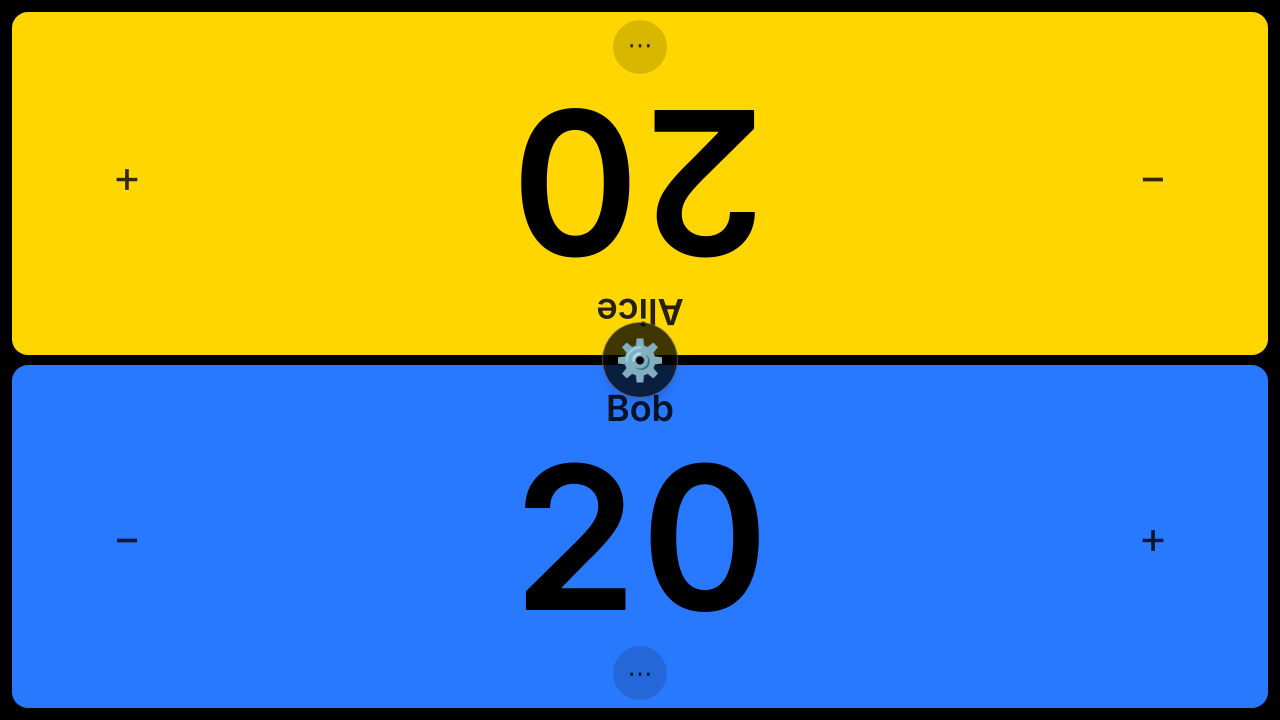
Test: LifeCounter › flips a coin from the game menu
Click the button named "Opzioni di gioco" at (640,360), box [602,322,678,398]
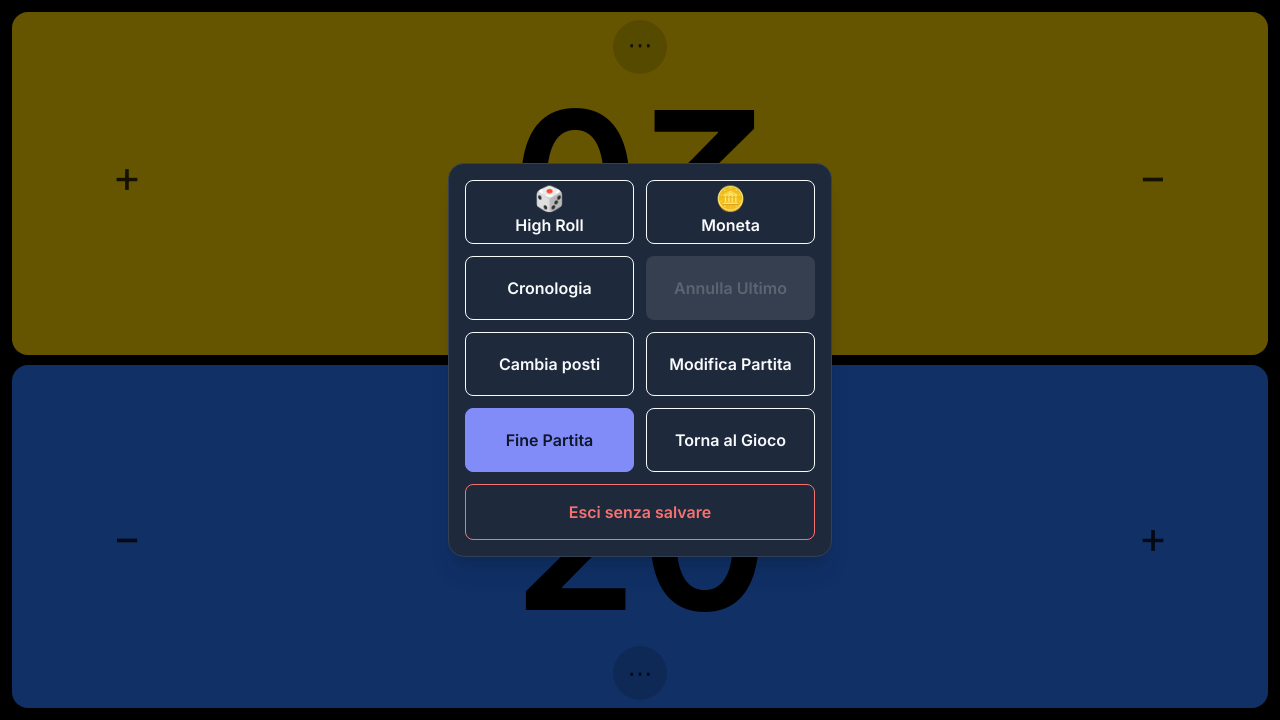
Click the button "🪙 Moneta" at (730,212), box [646,180,815,244]
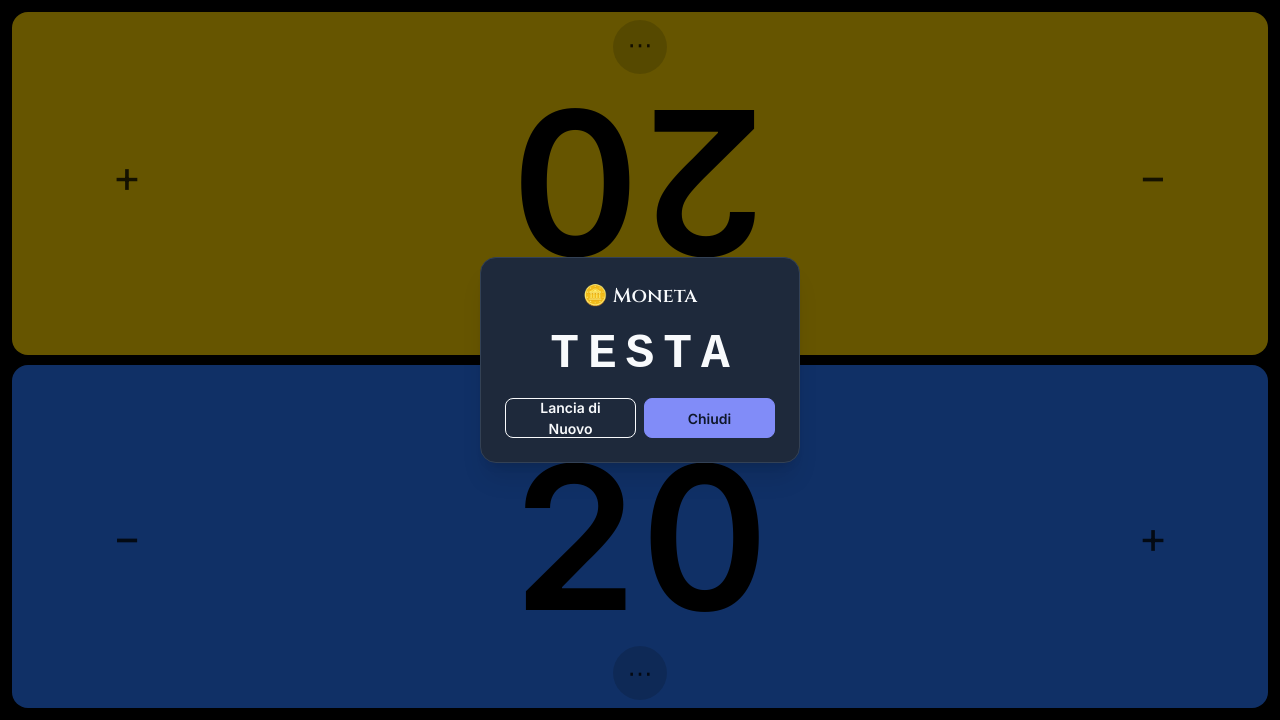
Expected: the message reads "T E S T A", [550,327,730,381]
Click the button "Lancia di Nuovo" at (570,418), box [505,398,636,438]
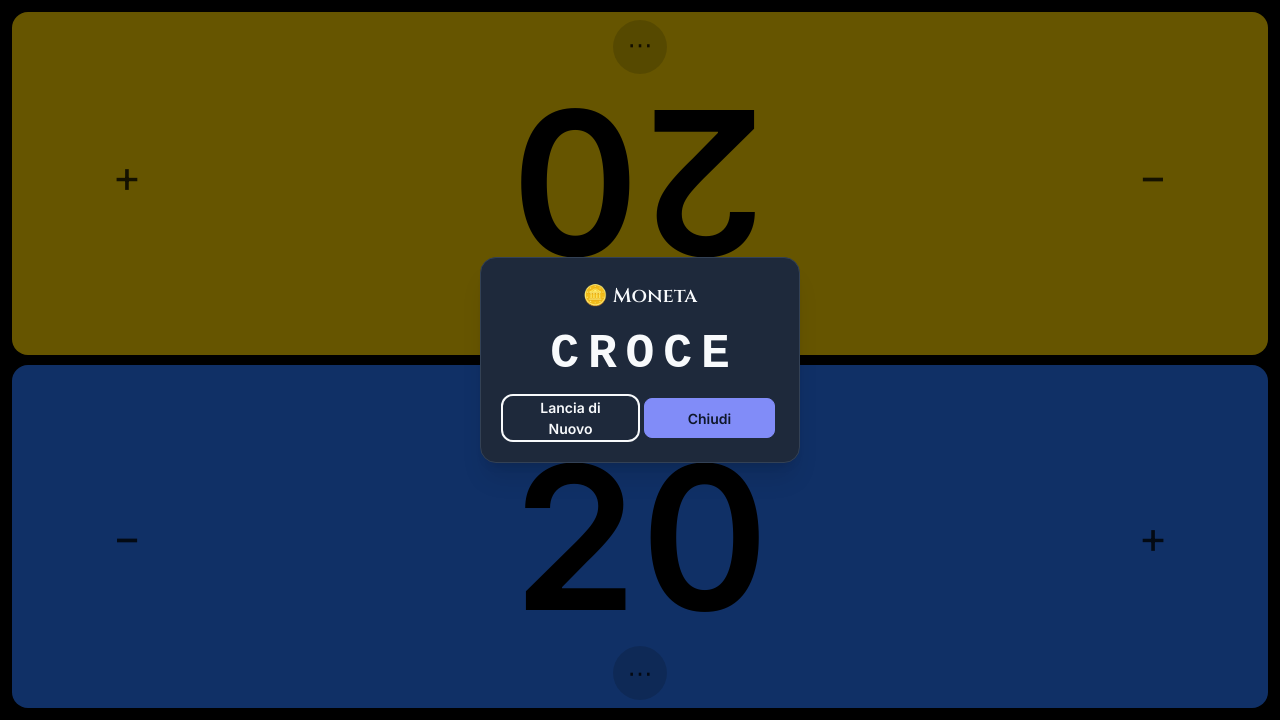
Expected: the message reads "C R O C E", [550,327,730,381]
Click the button "Chiudi" at (710,418), box [644,398,775,438]
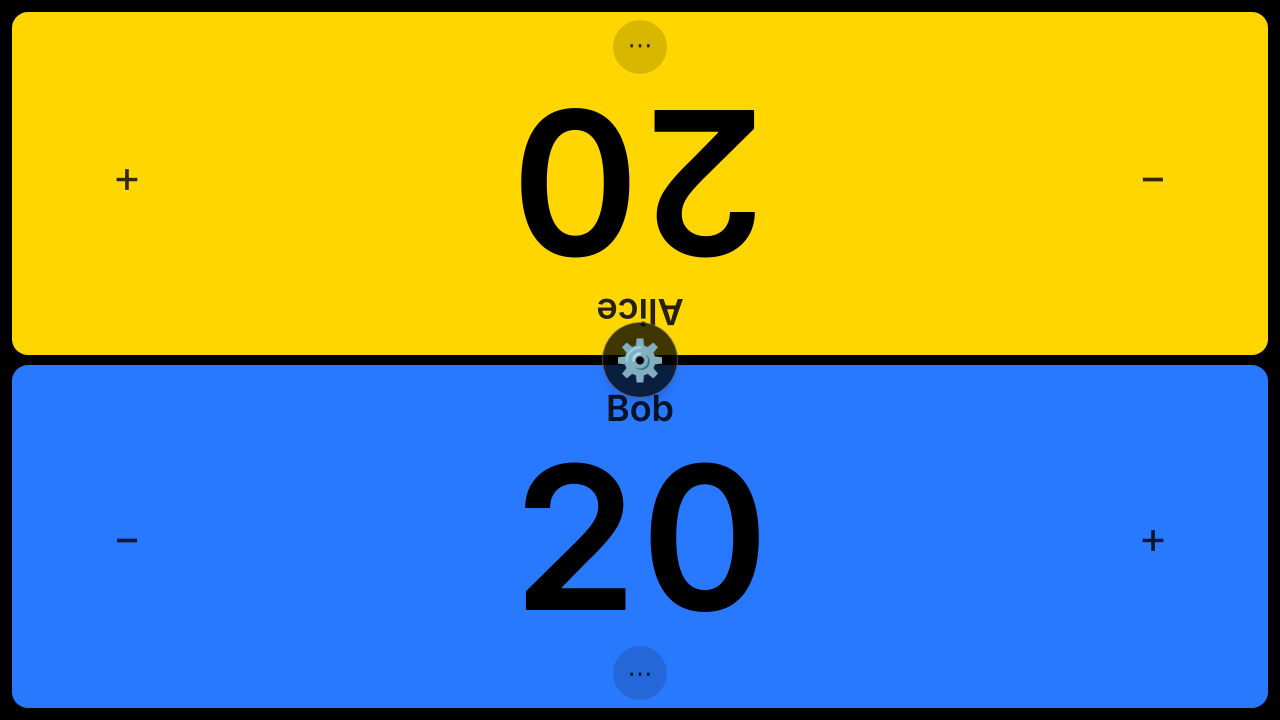
Expected: the message "C R O C E" is gone
